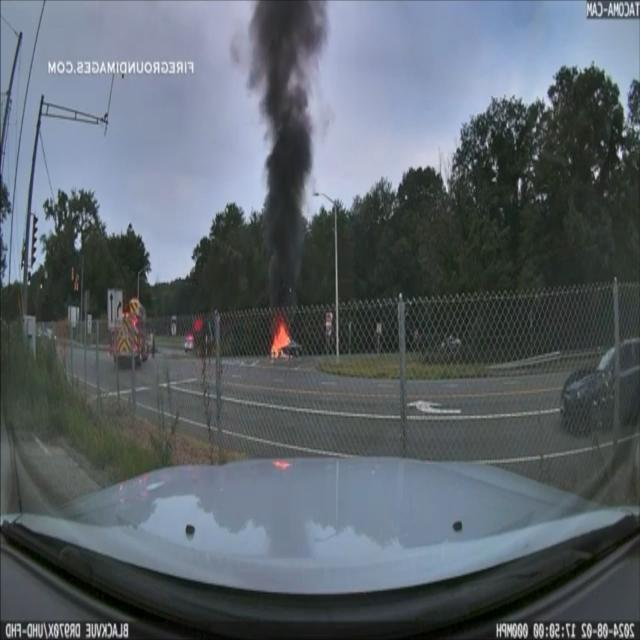fire: (270, 320, 295, 360)
